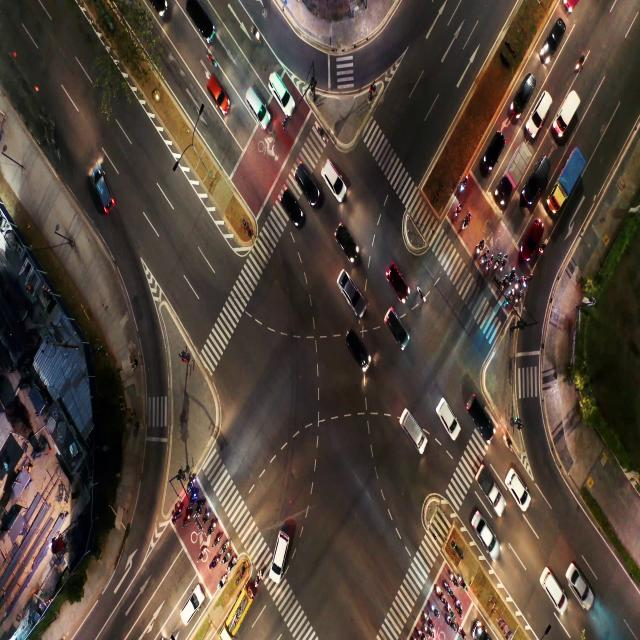bus: (234, 593, 252, 621)
car: (93, 161, 113, 209), (269, 531, 290, 574), (340, 276, 363, 313), (542, 17, 566, 51), (181, 584, 201, 623), (472, 515, 493, 552), (508, 472, 528, 509), (190, 1, 211, 36), (472, 398, 492, 432), (208, 81, 227, 115), (246, 87, 265, 121), (272, 82, 294, 111), (437, 399, 455, 434), (323, 160, 342, 193), (389, 267, 406, 303), (574, 564, 588, 606), (390, 316, 409, 346), (401, 412, 420, 442), (352, 331, 368, 366), (547, 566, 560, 604), (340, 224, 356, 253), (526, 220, 540, 250), (534, 158, 550, 184), (298, 172, 314, 195), (486, 136, 498, 166), (286, 190, 298, 218), (517, 76, 529, 103), (535, 98, 549, 120)
motorcycle: (442, 576, 452, 596), (416, 283, 427, 301), (315, 125, 326, 141), (504, 436, 513, 454), (448, 571, 458, 584), (455, 599, 463, 615), (210, 53, 218, 68), (462, 213, 470, 228), (506, 288, 514, 303), (429, 602, 438, 615), (188, 478, 196, 492), (198, 546, 205, 562), (458, 575, 466, 589), (437, 586, 444, 602), (458, 626, 466, 640), (219, 575, 227, 588), (253, 29, 261, 42), (255, 571, 262, 585), (501, 276, 508, 290), (215, 530, 221, 546), (227, 558, 235, 570), (525, 273, 531, 289), (487, 254, 493, 270), (424, 624, 432, 636), (414, 627, 422, 639), (209, 519, 216, 532), (461, 177, 468, 190), (448, 603, 454, 618), (454, 204, 462, 215), (446, 617, 454, 628), (212, 556, 218, 570), (222, 552, 228, 566), (476, 240, 483, 252), (175, 506, 181, 519), (541, 242, 547, 255), (424, 611, 431, 622), (502, 254, 507, 269), (510, 267, 516, 279), (482, 248, 488, 260), (203, 511, 210, 521), (221, 541, 228, 551), (496, 254, 501, 268), (197, 503, 203, 514), (184, 513, 189, 526), (517, 290, 522, 301), (515, 279, 521, 288), (191, 493, 196, 502)
truck: (560, 158, 581, 199), (482, 468, 500, 502), (512, 156, 524, 184), (561, 101, 575, 125)
